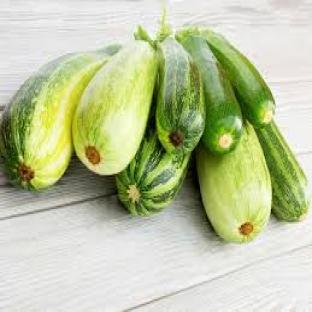Zucchini: (0, 46, 120, 189), (73, 41, 157, 175), (197, 124, 272, 242), (176, 31, 242, 154), (202, 31, 274, 128), (116, 128, 190, 215), (157, 37, 204, 154), (257, 121, 309, 220)
